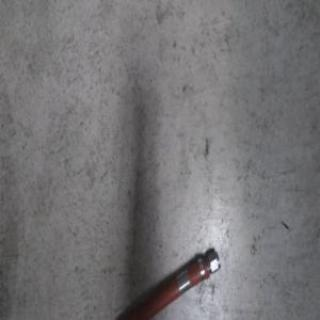Hosetrack_idkeyframe: (95, 244, 222, 319)
